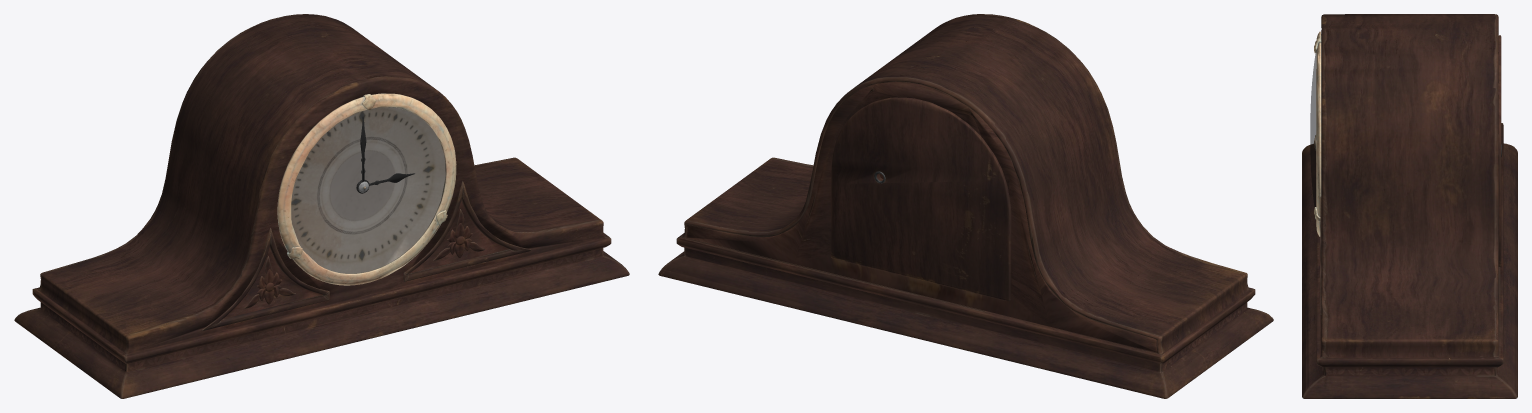
The model's file is mantel_clock_01_1k.gltf.
3 renders of one model, left to right at view 1: azimuth 30°, elevation 25°; view 2: azimuth 150°, elevation 25°; view 3: azimuth 270°, elevation 25°, orthographic.
Parts seen in each view (by area): view 1: mantel_clock_01, mantel_clock_01_glass; view 2: mantel_clock_01; view 3: mantel_clock_01, mantel_clock_01_glass.
Boxes of the visible parts, x1,y1,x2,y2 form: mantel_clock_01: [14, 14, 629, 398]; mantel_clock_01_glass: [291, 107, 445, 273]; mantel_clock_01: [658, 14, 1273, 398]; mantel_clock_01: [1302, 14, 1517, 398]; mantel_clock_01_glass: [1310, 53, 1316, 207].
Bounding box in the file's own units: 0.3421 × 0.16 × 0.1259.
2 materials, 2 textured.
